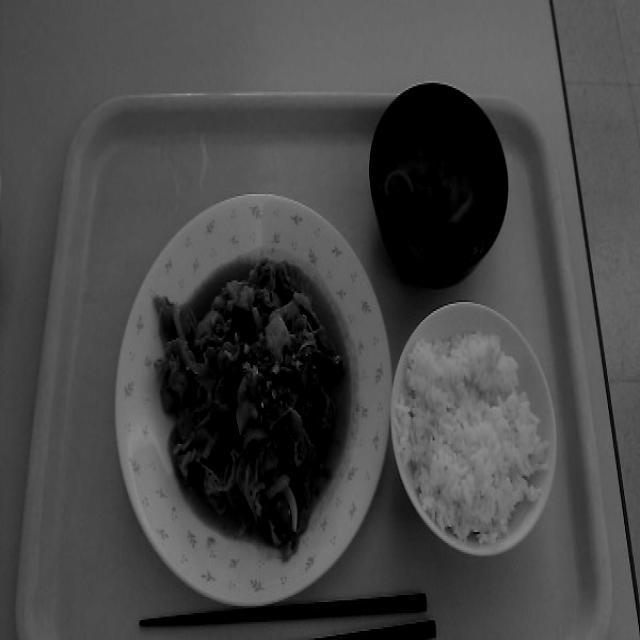Rice: (386, 295, 554, 554)
